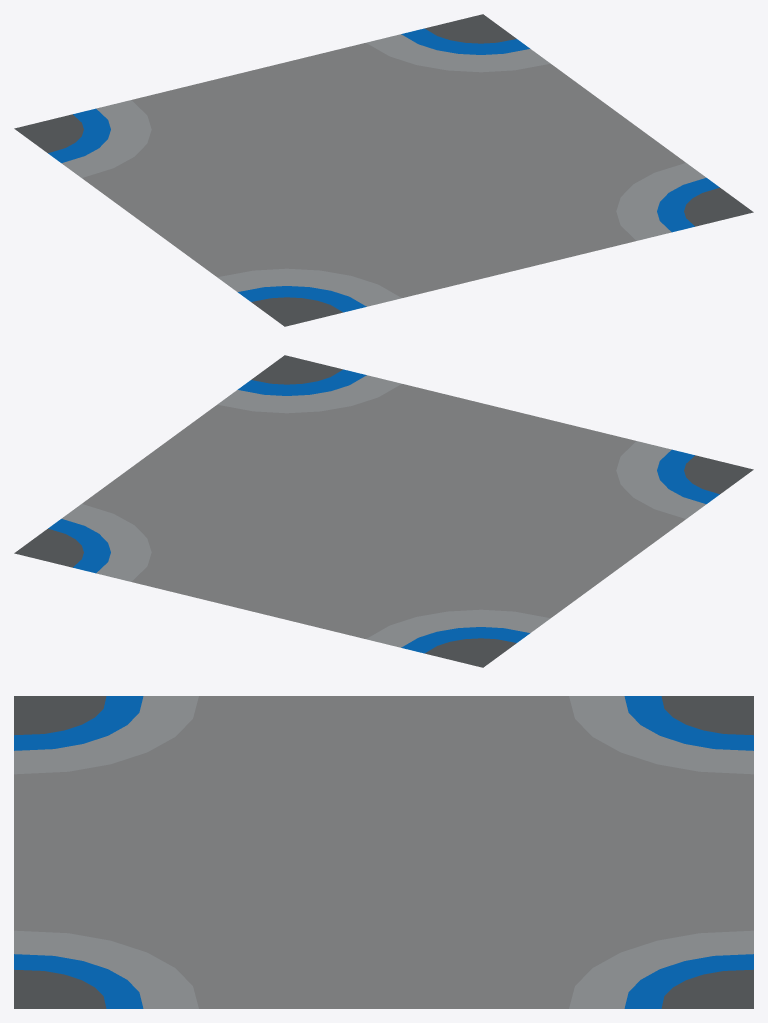
The model's file is Ceiling_type_B_022.fbx.
The picture shows the model from 3 angles, top to bottom: view 1: azimuth 30°, elevation 25°; view 2: azimuth 150°, elevation 25°; view 3: azimuth 270°, elevation 25°; orthographic projection. The views are drawn at different scales.
Visible parts, largest first — view 1: Ceiling_type_B_022; view 2: Ceiling_type_B_022; view 3: Ceiling_type_B_022.
Boxes of the visible parts, x1,y1,x2,y2 form: Ceiling_type_B_022: (14,14,753,326); Ceiling_type_B_022: (14,355,753,667); Ceiling_type_B_022: (14,696,753,1008).
Size of the model in its own units: 400 by 400 by 5.7.
